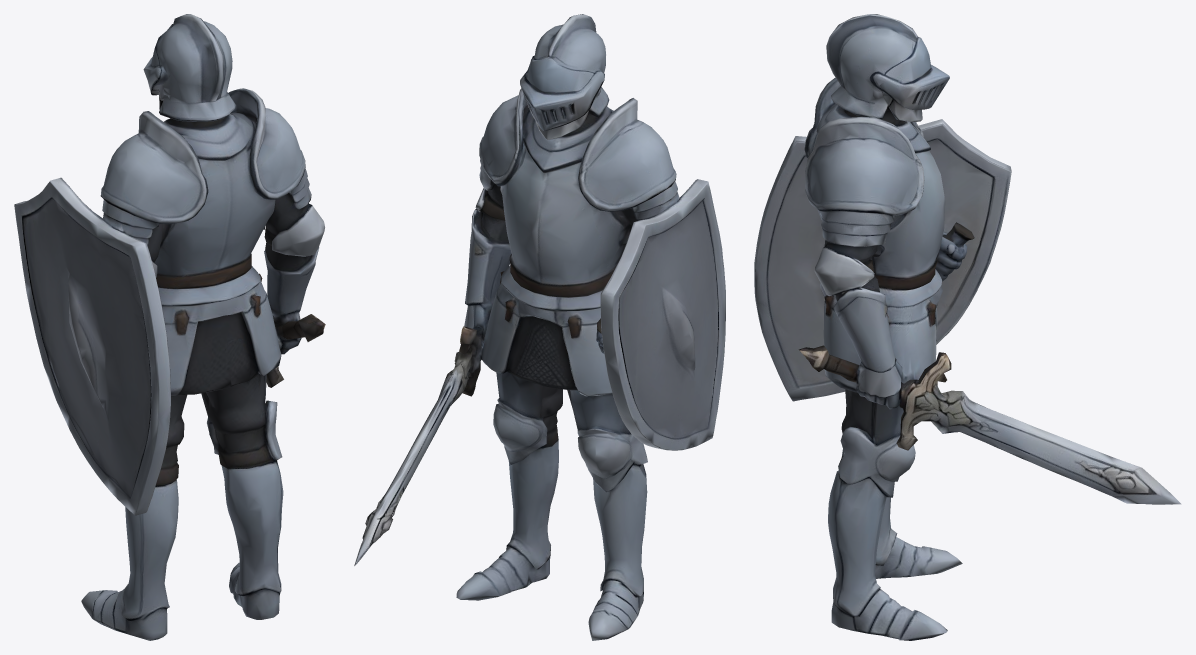
The model's file is gmirror.glb.
3 views of the same model, side by side, from view 1: azimuth 30°, elevation 25°; view 2: azimuth 150°, elevation 25°; view 3: azimuth 270°, elevation 25° (orthographic). The views are drawn at different scales.
Visible parts, largest first — view 1: tripo_node_aa4a3b6e-6f9f-475c-92fe-72dc4cd2bcb8; view 2: tripo_node_aa4a3b6e-6f9f-475c-92fe-72dc4cd2bcb8; view 3: tripo_node_aa4a3b6e-6f9f-475c-92fe-72dc4cd2bcb8.
Boxes of the visible parts, x1,y1,x2,y2 form: tripo_node_aa4a3b6e-6f9f-475c-92fe-72dc4cd2bcb8: (14, 14, 325, 640); tripo_node_aa4a3b6e-6f9f-475c-92fe-72dc4cd2bcb8: (354, 14, 725, 640); tripo_node_aa4a3b6e-6f9f-475c-92fe-72dc4cd2bcb8: (754, 14, 1181, 640).
Size of the model in its own units: 0.3986 by 1 by 0.6613.
Materials: 1 (1 with a texture image).
